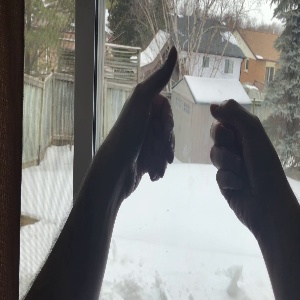hand: (116, 46, 182, 196), (210, 98, 289, 223)
